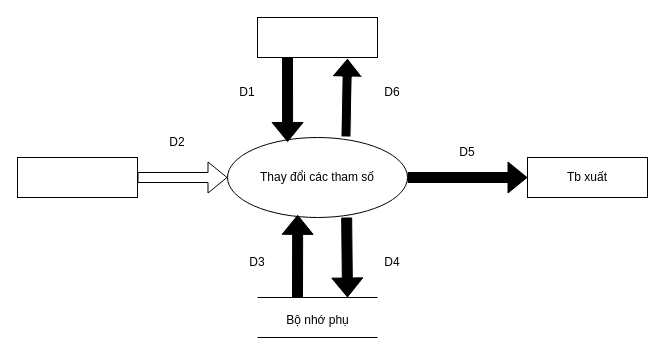
Image size: 665x356. Some labels were removed from this diagram. Here are the shapes that lost their labels. From the top down, the centre of each, then its label:
At [317,37]: "Người dùng".
At [77,177]: "Tb nhập".
